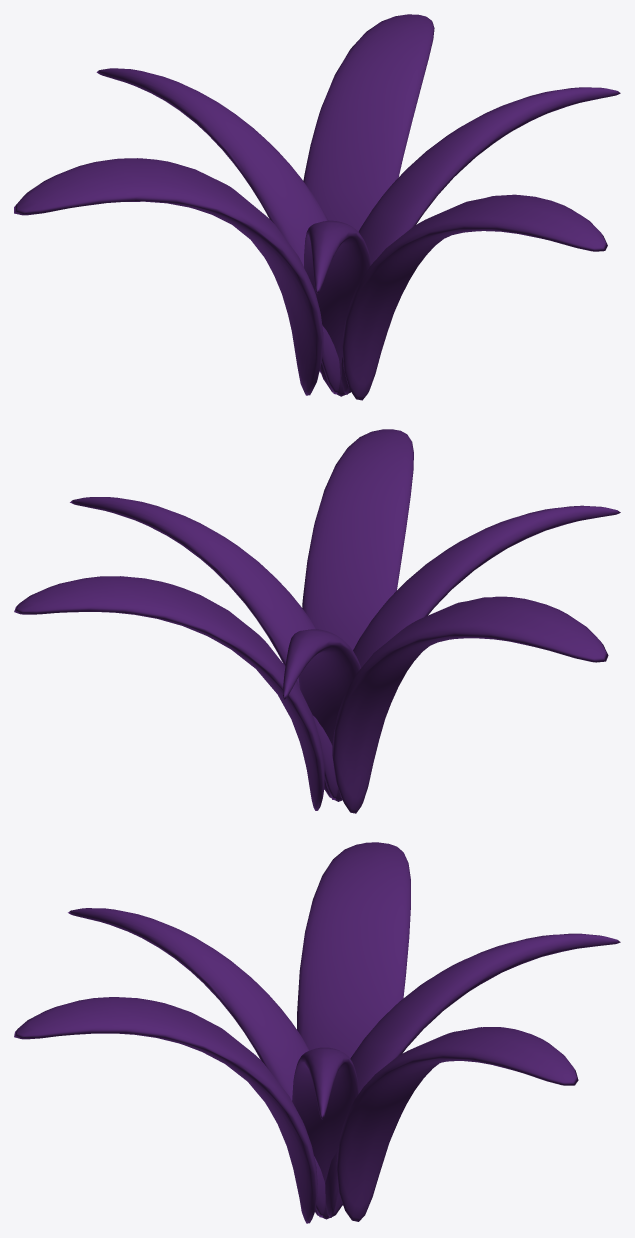
File: planta1.fbx
3 renders of one model, top to bottom at view 1: azimuth 30°, elevation 25°; view 2: azimuth 150°, elevation 25°; view 3: azimuth 270°, elevation 25°, orthographic. The views are drawn at different scales.
Visible parts, largest first — view 1: Sphere009, Sphere008, Sphere007, Sphere012, Sphere011, Sphere010; view 2: Sphere007, Sphere008, Sphere009, Sphere011, Sphere010, Sphere012; view 3: Sphere008, Sphere009, Sphere007, Sphere010, Sphere012, Sphere011.
Boxes of the visible parts, x1,y1,x2,y2 form: Sphere009: (303,14,434,372); Sphere008: (14,158,323,395); Sphere007: (342,194,607,400); Sphere012: (96,68,340,394); Sphere011: (341,87,620,394); Sphere010: (304,220,371,396); Sphere007: (302,429,413,650); Sphere008: (332,596,608,813); Sphere009: (14,576,324,810); Sphere011: (70,497,338,800); Sphere010: (340,505,620,799); Sphere012: (283,629,360,801); Sphere008: (297,842,410,1205); Sphere009: (336,1027,578,1221); Sphere007: (14,997,317,1223); Sphere010: (68,908,325,1217); Sphere012: (325,933,620,1217); Sphere011: (292,1047,358,1219).
Bounding box in the file's own units: 32.82 × 30.53 × 14.08.
